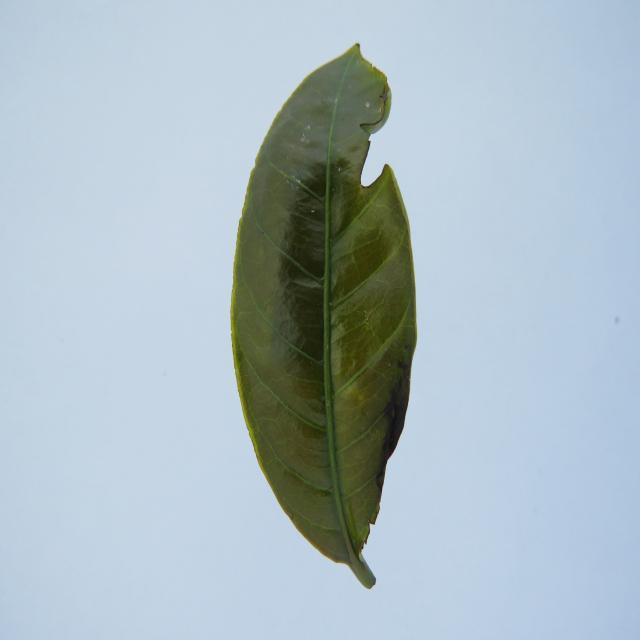DeficienciaNutricional-Boro: (231, 45, 416, 588)
